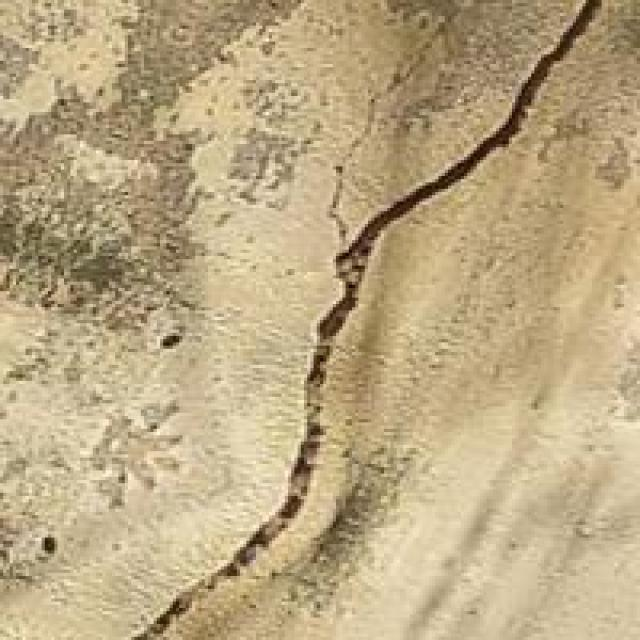crack: (138, 3, 595, 637)
